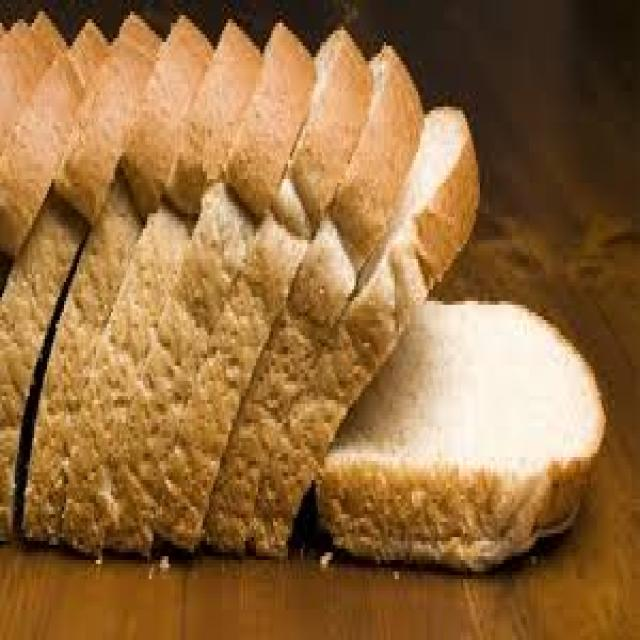Bread: (319, 301, 605, 568)
